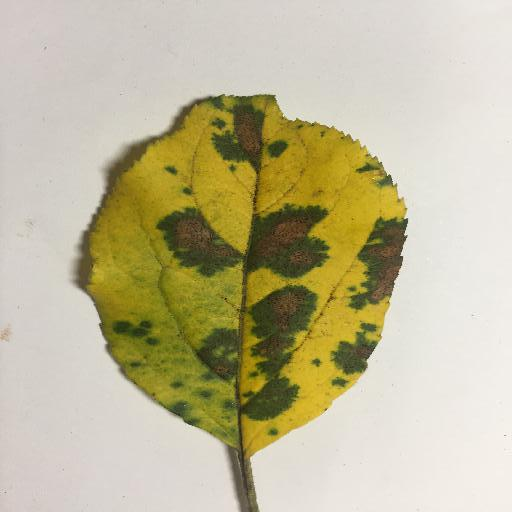Brown_Spot: (254, 216, 312, 275), (174, 215, 233, 263), (367, 222, 403, 299), (265, 298, 299, 359), (227, 109, 263, 163), (208, 347, 232, 385), (349, 343, 372, 362)
